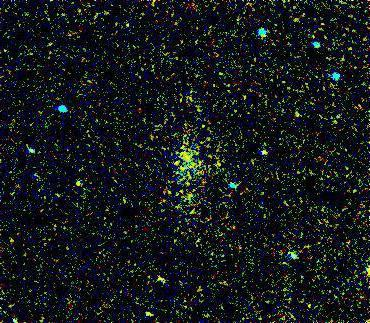star: (63, 167, 93, 197)
